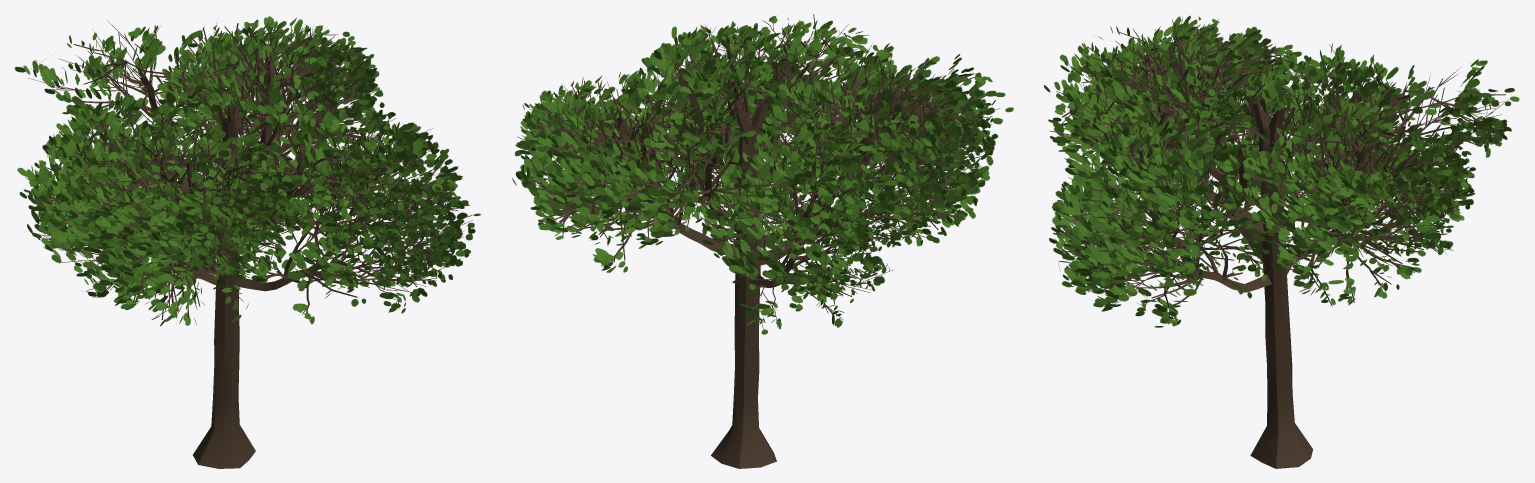
3 views of the same model, side by side, from view 1: azimuth 30°, elevation 25°; view 2: azimuth 150°, elevation 25°; view 3: azimuth 270°, elevation 25° (orthographic).
Visible parts, largest first — view 1: oak 01.001_trunk_Mat.001_0.076; view 2: oak 01.001_trunk_Mat.001_0.076; view 3: oak 01.001_trunk_Mat.001_0.076.
Part boxes in pixels (x1,y1,x2,y2): oak 01.001_trunk_Mat.001_0.076: (14,16,480,468); oak 01.001_trunk_Mat.001_0.076: (512,14,1013,468); oak 01.001_trunk_Mat.001_0.076: (1044,16,1519,468).
Size of the model in its own units: 3.86 by 3.42 by 4.
2 materials, 1 textured.
